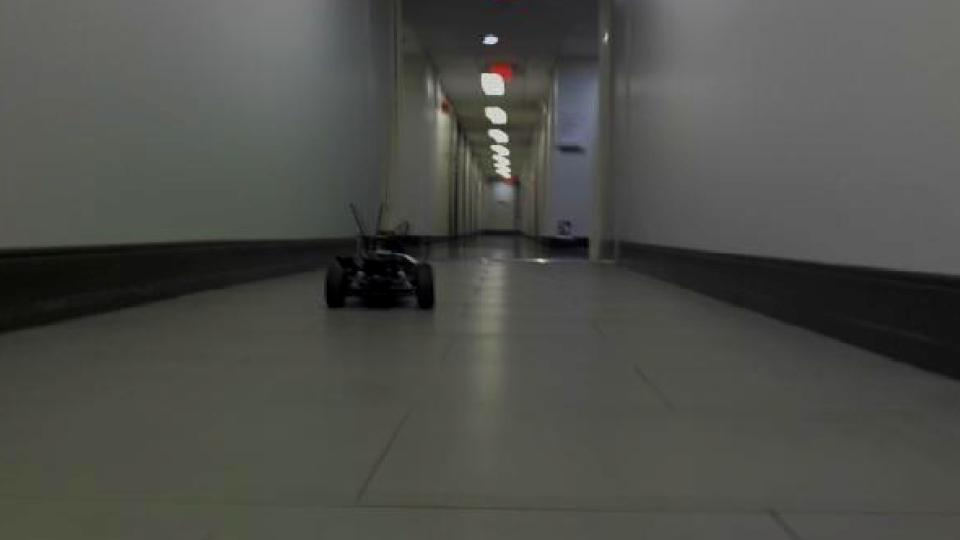car: (319, 198, 438, 314)
